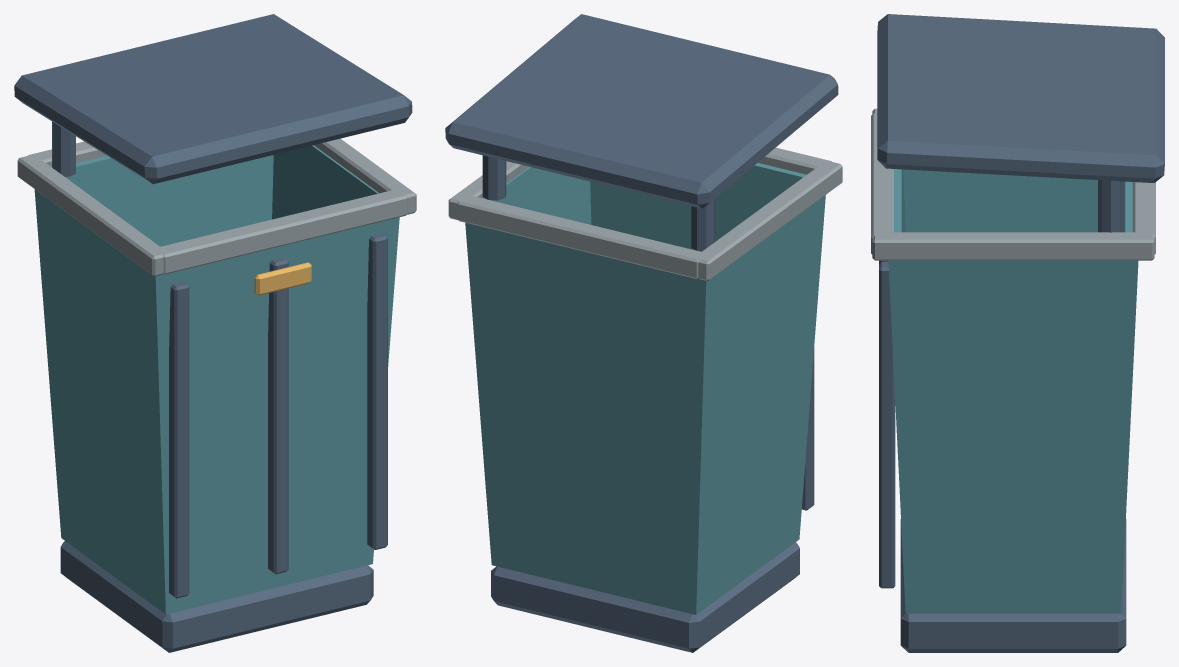
File: trash_bin.glb
3 views of the same model, side by side, from view 1: azimuth 30°, elevation 25°; view 2: azimuth 150°, elevation 25°; view 3: azimuth 270°, elevation 25° (orthographic). The views are drawn at different scales.
Parts seen in each view (by area): view 1: bin_tapered_wall_0, bin_rain_hood, bin_tapered_wall_3, bin_ground_foot, bin_tapered_wall_2, bin_upper_rim_cross, bin_front_vertical_rib, bin_front_vertical_rib.002, bin_front_vertical_rib.001, bin_upper_rim_side, bin_tapered_wall_1, bin_upper_rim_side.001 (+3 smaller); view 2: bin_tapered_wall_2, bin_rain_hood, bin_tapered_wall_3, bin_ground_foot, bin_tapered_wall_0, bin_upper_rim_cross.001, bin_upper_rim_side, bin_tapered_wall_1, bin_front_vertical_rib, bin_upper_rim_cross, bin_hood_stanchion.001, bin_hood_stanchion (+1 smaller); view 3: bin_tapered_wall_1, bin_rain_hood, bin_tapered_wall_3, bin_ground_foot, bin_upper_rim_side.001, bin_front_vertical_rib.002, bin_upper_rim_cross, bin_hood_stanchion.001, bin_upper_rim_cross.001, bin_tapered_wall_0, bin_tapered_wall_2.
Part boxes in pixels (x1=…): bin_tapered_wall_0: x1=155, y1=217, x2=399, y2=614; bin_rain_hood: x1=14, y1=14, x2=412, y2=184; bin_tapered_wall_3: x1=34, y1=189, x2=165, y2=614; bin_ground_foot: x1=60, y1=541, x2=373, y2=652; bin_tapered_wall_2: x1=65, y1=155, x2=273, y2=246; bin_upper_rim_cross: x1=156, y1=189, x2=407, y2=274; bin_front_vertical_rib: x1=169, y1=282, x2=189, y2=598; bin_front_vertical_rib.002: x1=367, y1=233, x2=387, y2=549; bin_front_vertical_rib.001: x1=268, y1=257, x2=288, y2=574; bin_upper_rim_side: x1=17, y1=154, x2=167, y2=276; bin_tapered_wall_1: x1=272, y1=145, x2=378, y2=219; bin_upper_rim_side.001: x1=314, y1=138, x2=416, y2=214; bin_tapered_wall_2: x1=465, y1=222, x2=706, y2=614; bin_rain_hood: x1=445, y1=14, x2=838, y2=208; bin_tapered_wall_3: x1=696, y1=195, x2=825, y2=614; bin_ground_foot: x1=491, y1=542, x2=799, y2=652; bin_tapered_wall_0: x1=590, y1=163, x2=806, y2=251; bin_upper_rim_cross.001: x1=457, y1=195, x2=705, y2=279; bin_upper_rim_side: x1=694, y1=160, x2=842, y2=280; bin_tapered_wall_1: x1=485, y1=166, x2=591, y2=224; bin_front_vertical_rib: x1=801, y1=348, x2=814, y2=510; bin_upper_rim_cross: x1=758, y1=147, x2=831, y2=174; bin_hood_stanchion.001: x1=482, y1=155, x2=506, y2=200; bin_hood_stanchion: x1=691, y1=199, x2=714, y2=251; bin_tapered_wall_1: x1=888, y1=260, x2=1138, y2=613; bin_rain_hood: x1=877, y1=14, x2=1164, y2=182; bin_tapered_wall_3: x1=903, y1=169, x2=1097, y2=232; bin_ground_foot: x1=900, y1=519, x2=1126, y2=652; bin_upper_rim_side.001: x1=872, y1=232, x2=1154, y2=260; bin_front_vertical_rib.002: x1=879, y1=262, x2=895, y2=588; bin_upper_rim_cross: x1=871, y1=113, x2=893, y2=254; bin_hood_stanchion.001: x1=1098, y1=180, x2=1123, y2=232; bin_upper_rim_cross.001: x1=1132, y1=182, x2=1155, y2=253; bin_tapered_wall_0: x1=894, y1=169, x2=905, y2=232; bin_tapered_wall_2: x1=1123, y1=181, x2=1132, y2=232.
Bounding box in the file's own units: 0.62 × 1.13 × 0.5727.
